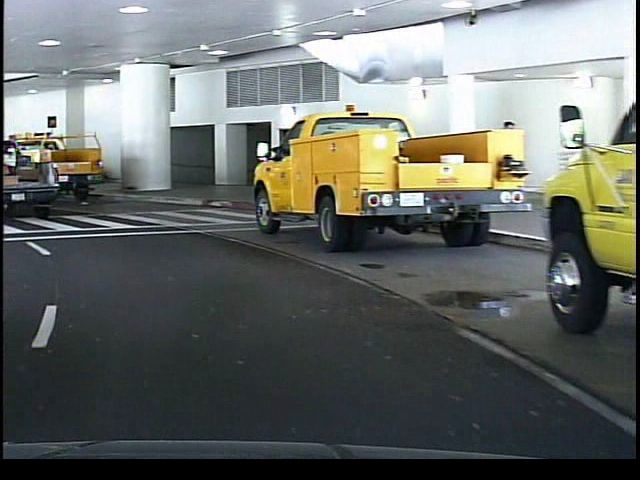person: (486, 113, 520, 218)
